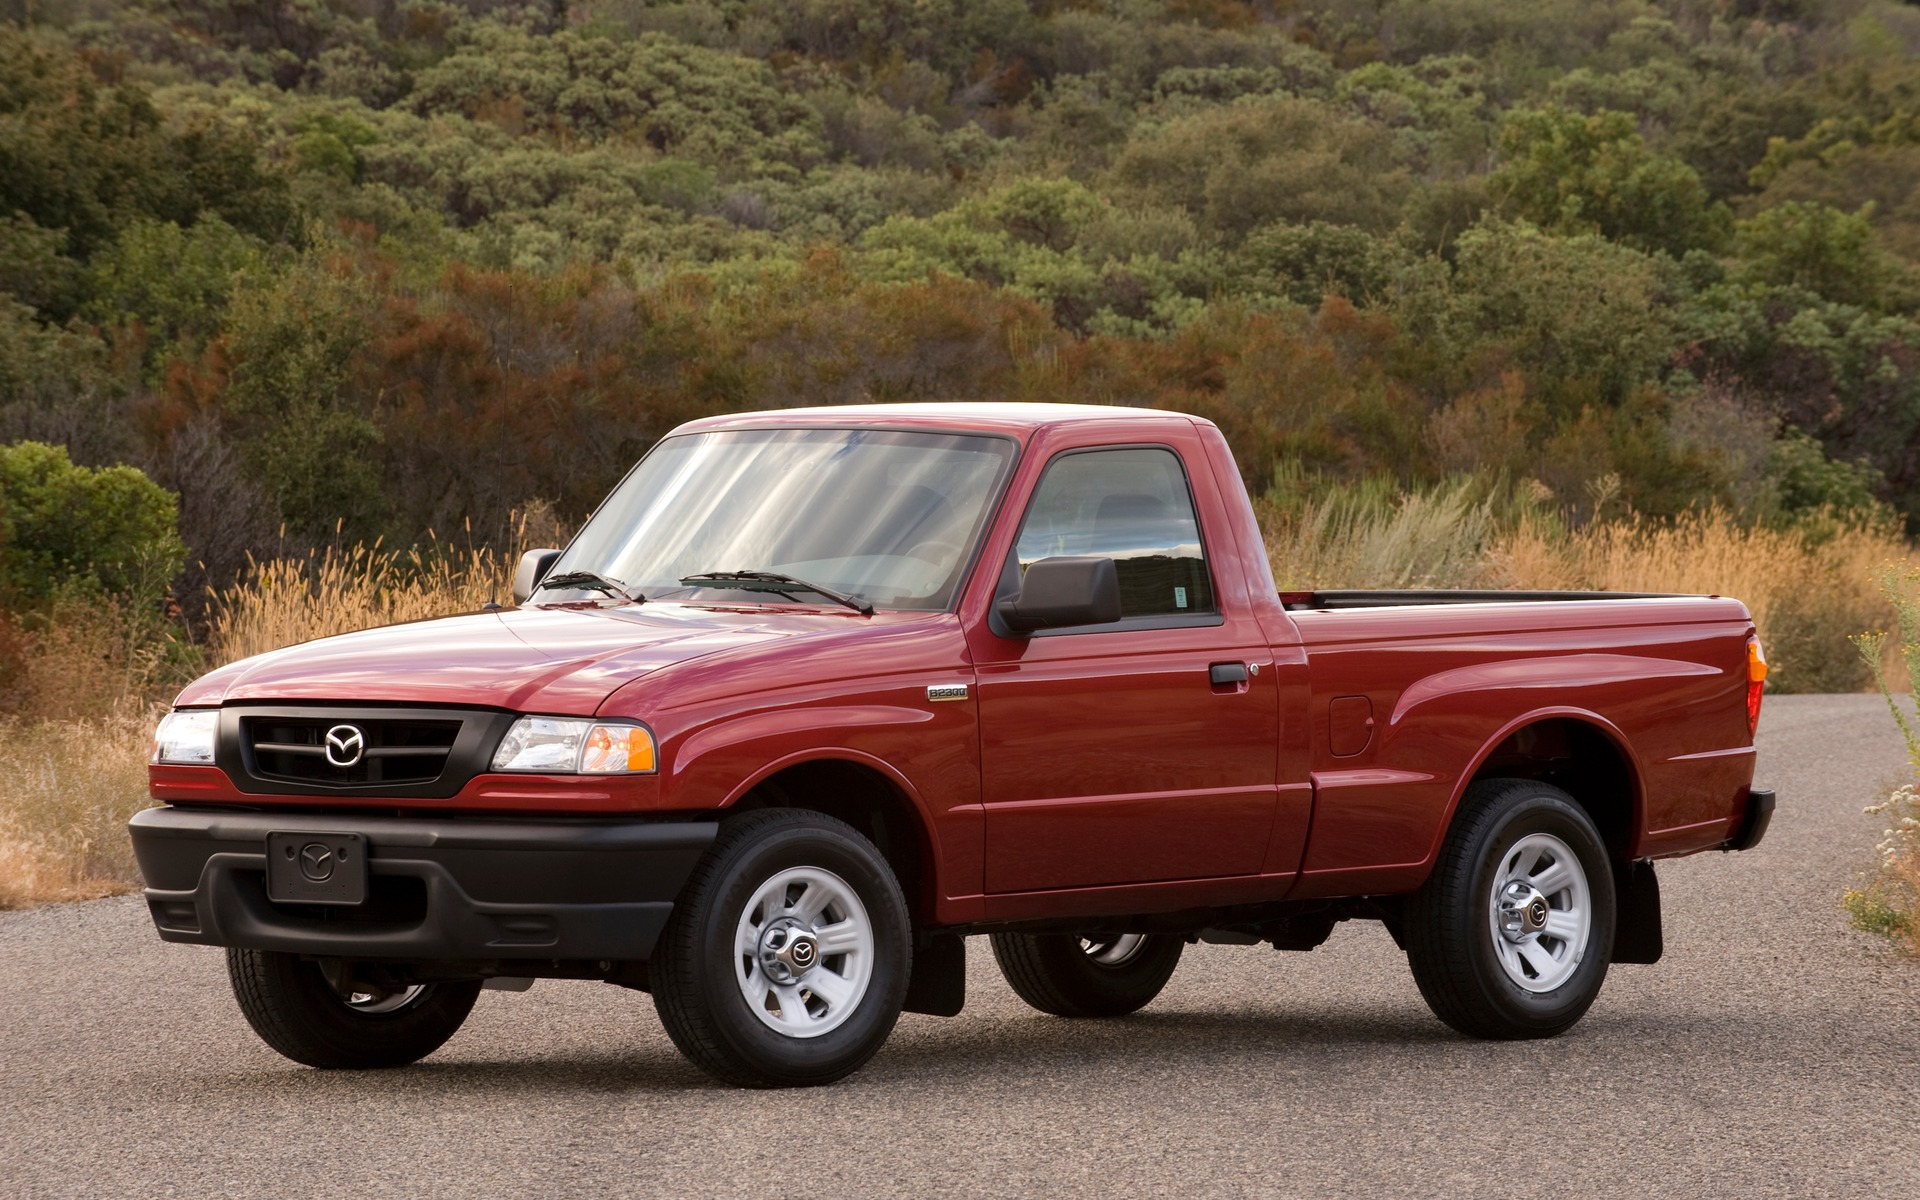Vehicle: (131, 388, 1785, 1085)
